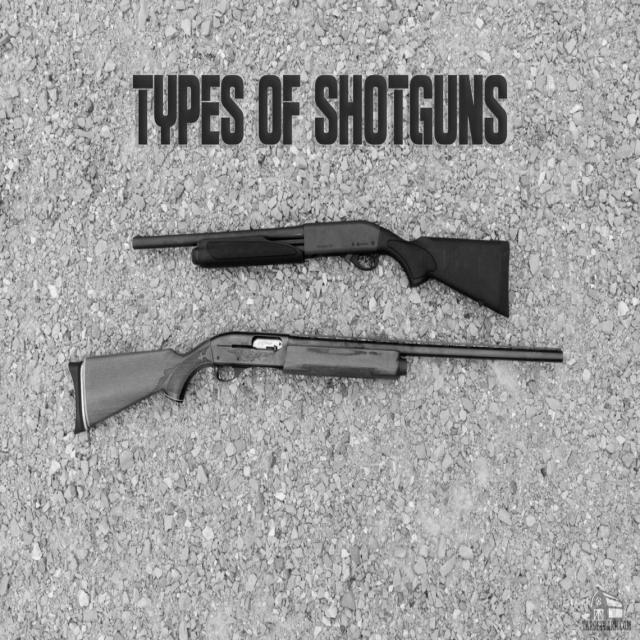Short-Gun: (59, 332, 576, 468), (129, 215, 533, 327)
